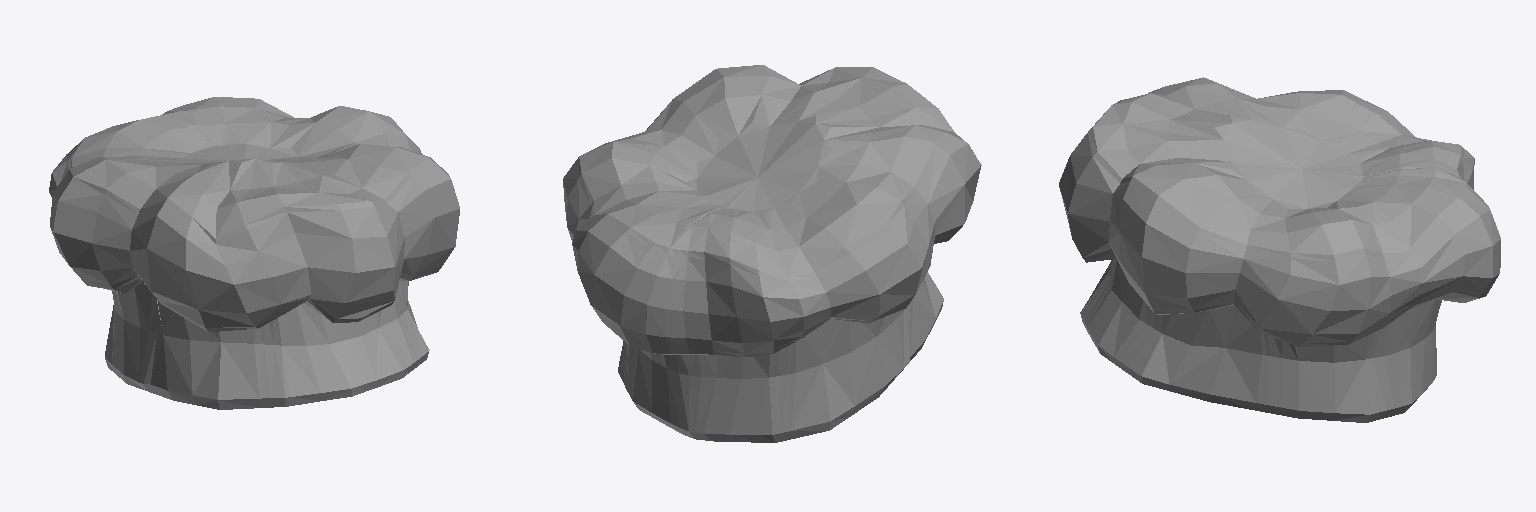
The model's file is hat.obj.
3 views of the same model, side by side, from view 1: azimuth 30°, elevation 25°; view 2: azimuth 150°, elevation 25°; view 3: azimuth 270°, elevation 25° (orthographic).
Parts seen in each view (by area): view 1: Mesh_0029.rip.001; view 2: Mesh_0029.rip.001; view 3: Mesh_0029.rip.001.
Part boxes in pixels (x1,y1,x2,y2): Mesh_0029.rip.001: (49, 97, 459, 409); Mesh_0029.rip.001: (563, 65, 981, 442); Mesh_0029.rip.001: (1059, 77, 1500, 422).
Bounding box in the file's own units: 3.85 × 2.65 × 4.13.